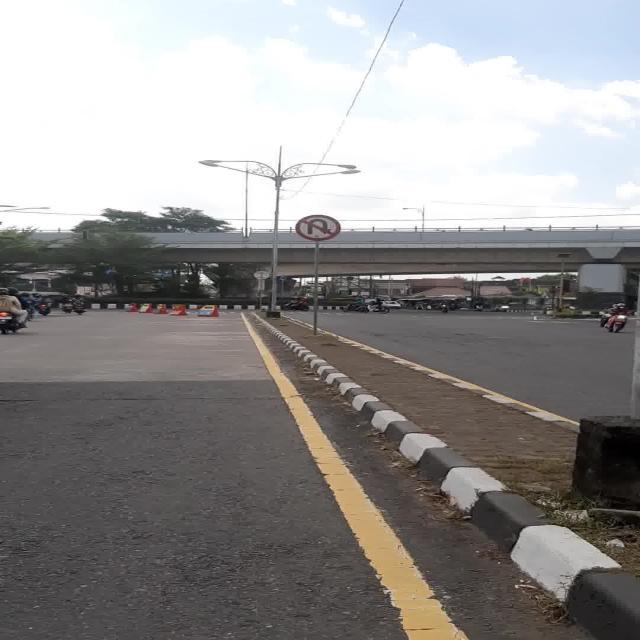Dilarang Putar Balik: (295, 214, 341, 241)
